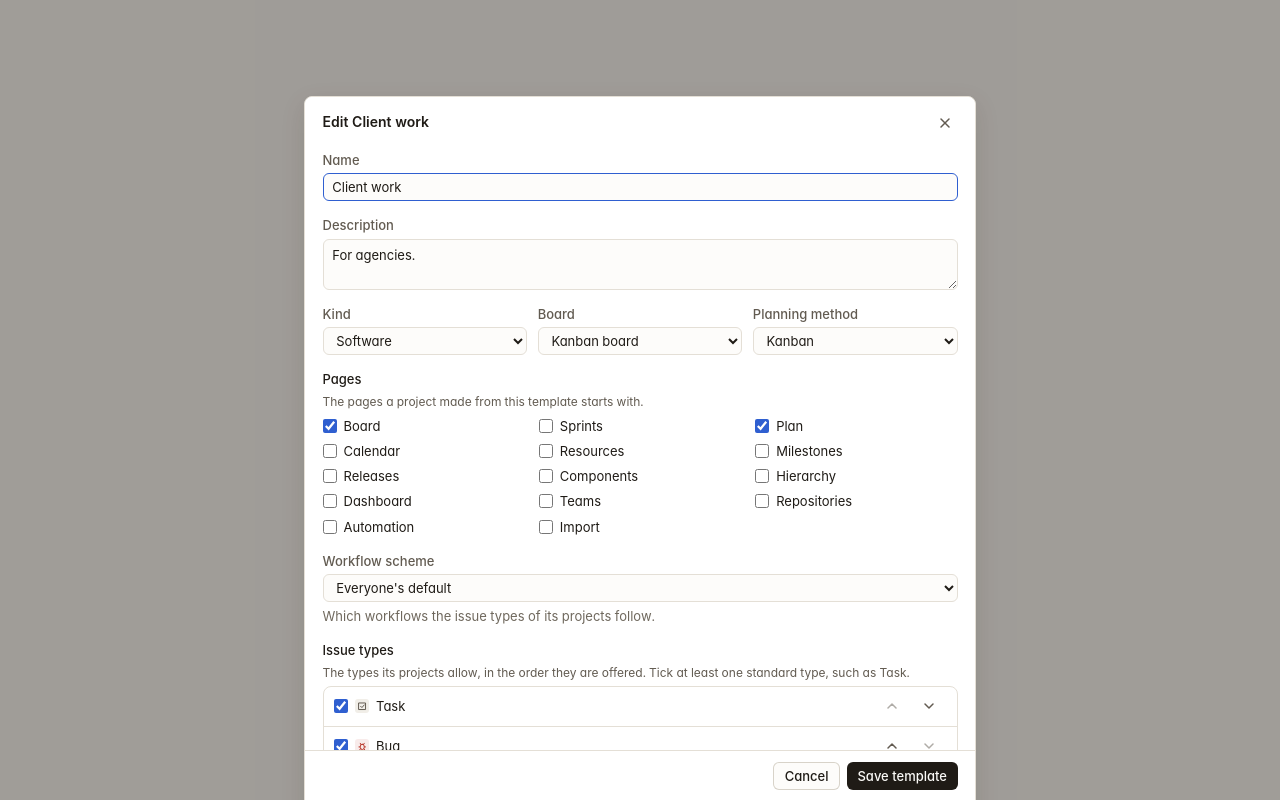
Test: the template editor › offers the desk and its pages only for a service template
Check: the switch labelled "Set up a service desk" is not shown
Check: the checkbox labelled "Queues" is not shown
Step 1. Select "Service" in the dropdown labelled "Kind" → [425, 341], box [322,327,527,355]
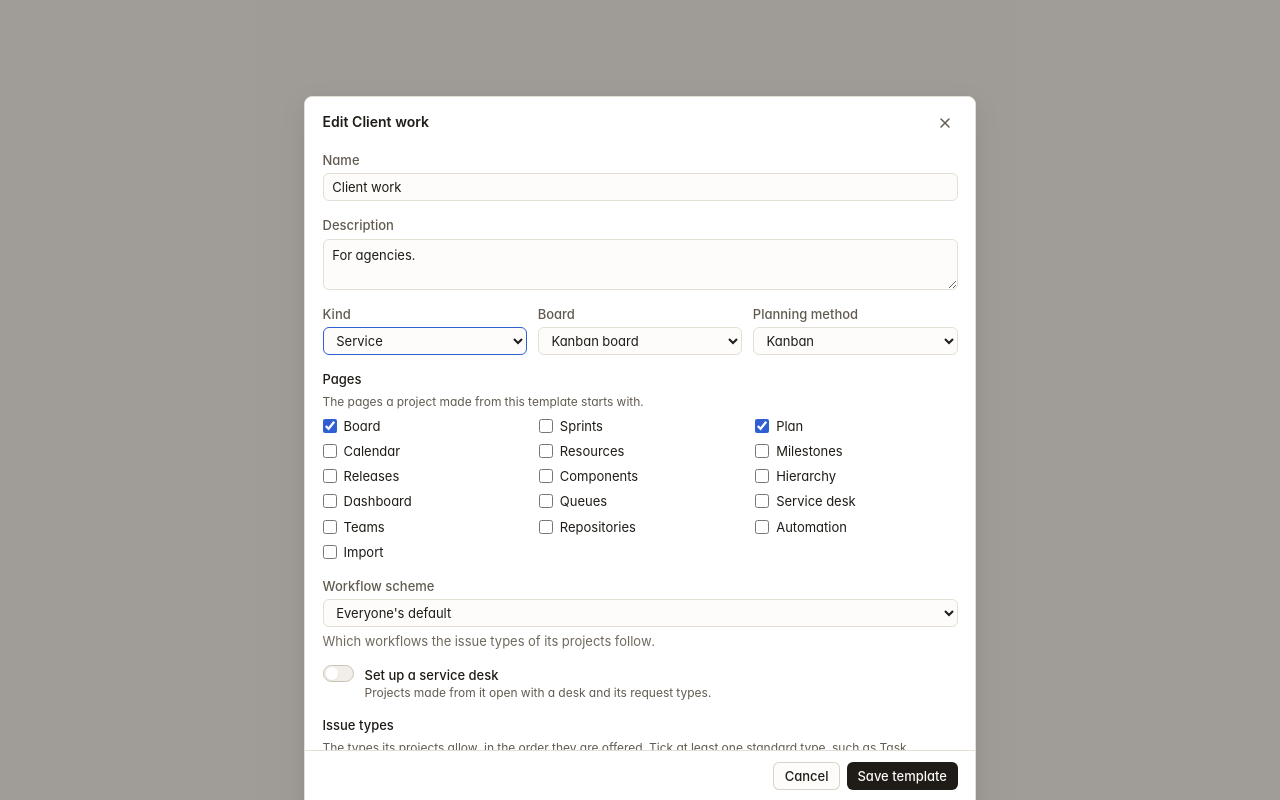
Check: the checkbox labelled "Queues" is shown, box [539,494,553,508]
Check: the switch named "Set up a service desk" is shown, box [322,665,354,682]
Step 2. Select "Business" in the dropdown labelled "Kind" → [425, 341], box [322,327,527,355]
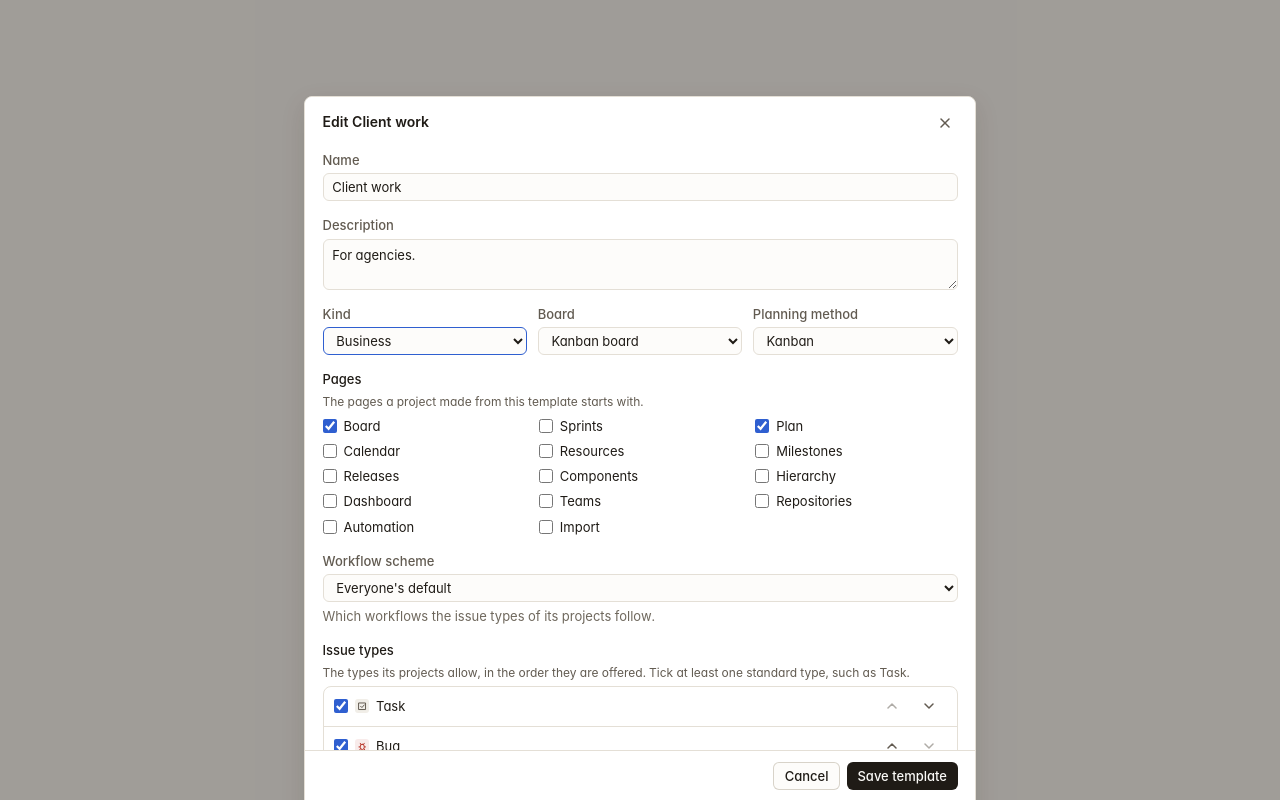
Check: the text "Set up a service desk" is gone
Check: the label "Queues" is gone
